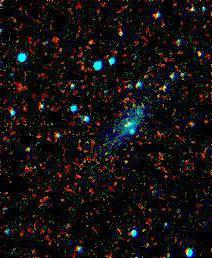star: (79, 27, 109, 57)
